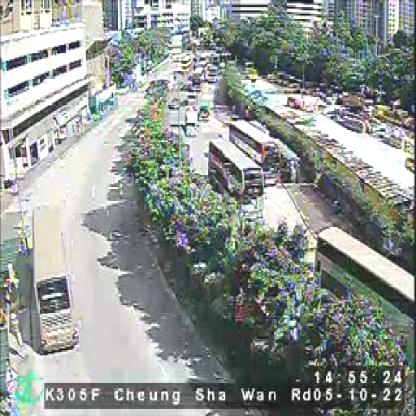Bus: (316, 225, 413, 338), (29, 201, 78, 350), (208, 137, 263, 220), (230, 122, 278, 186)
Minibus: (199, 102, 211, 121)
Truck: (184, 109, 196, 135)
